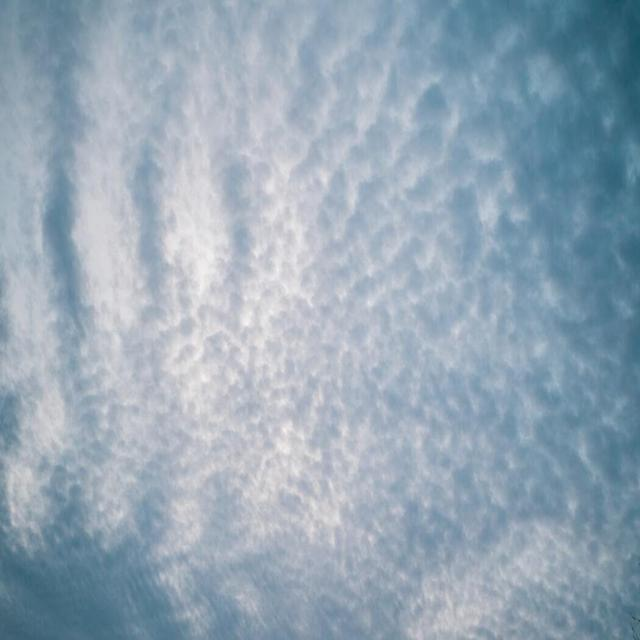altocumulus: (55, 81, 612, 602)
